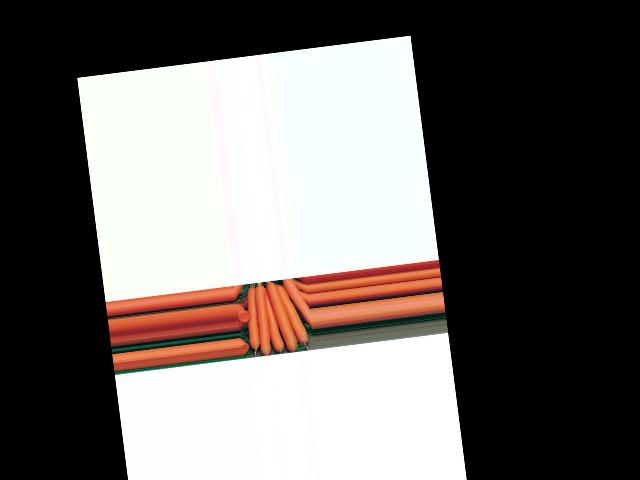carrot: (264, 280, 295, 356)
